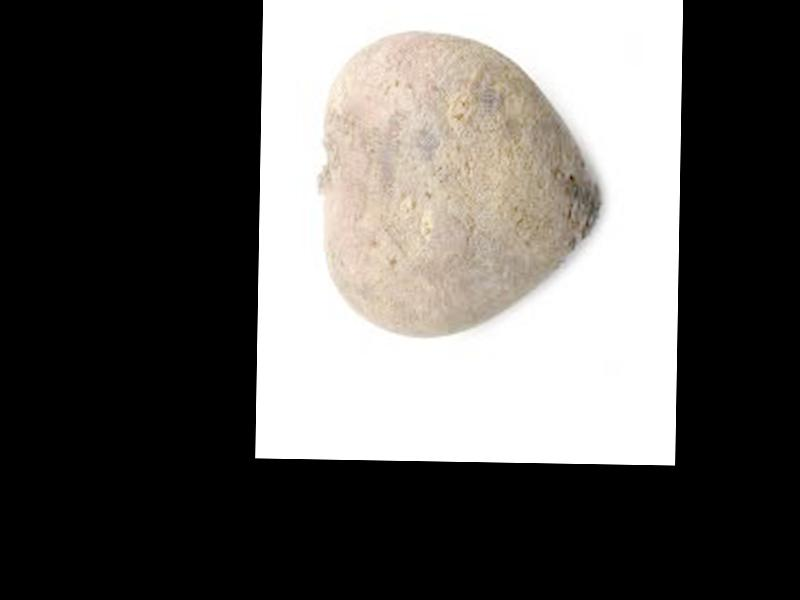Beet: (318, 28, 602, 342)
